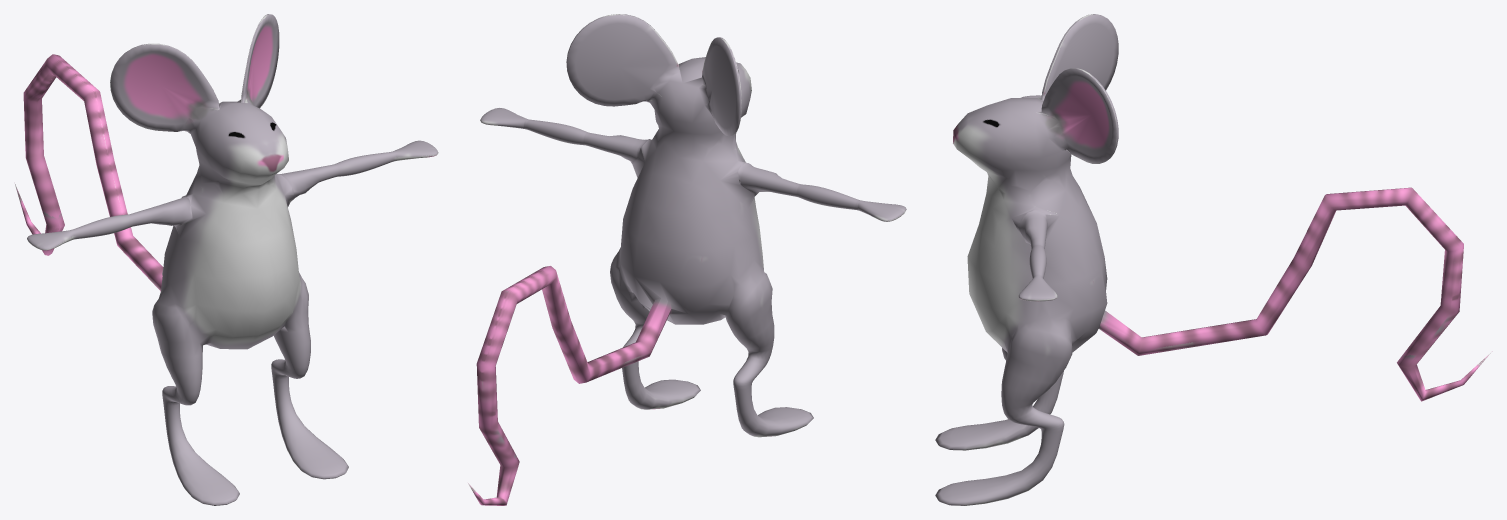
Rendered from peter.glb.
3 renders of one model, left to right at view 1: azimuth 30°, elevation 25°; view 2: azimuth 150°, elevation 25°; view 3: azimuth 270°, elevation 25°, orthographic. The views are drawn at different scales.
Visible parts, largest first — view 1: Cube; view 2: Cube; view 3: Cube.
Boxes of the visible parts, box(x1,y1,x2,y2) form: Cube: box(15, 14, 438, 505); Cube: box(468, 14, 906, 505); Cube: box(935, 14, 1492, 505).
Bounding box in the file's own units: 1.9 × 1.86 × 2.2.
Materials: 1 (1 with a texture image).
